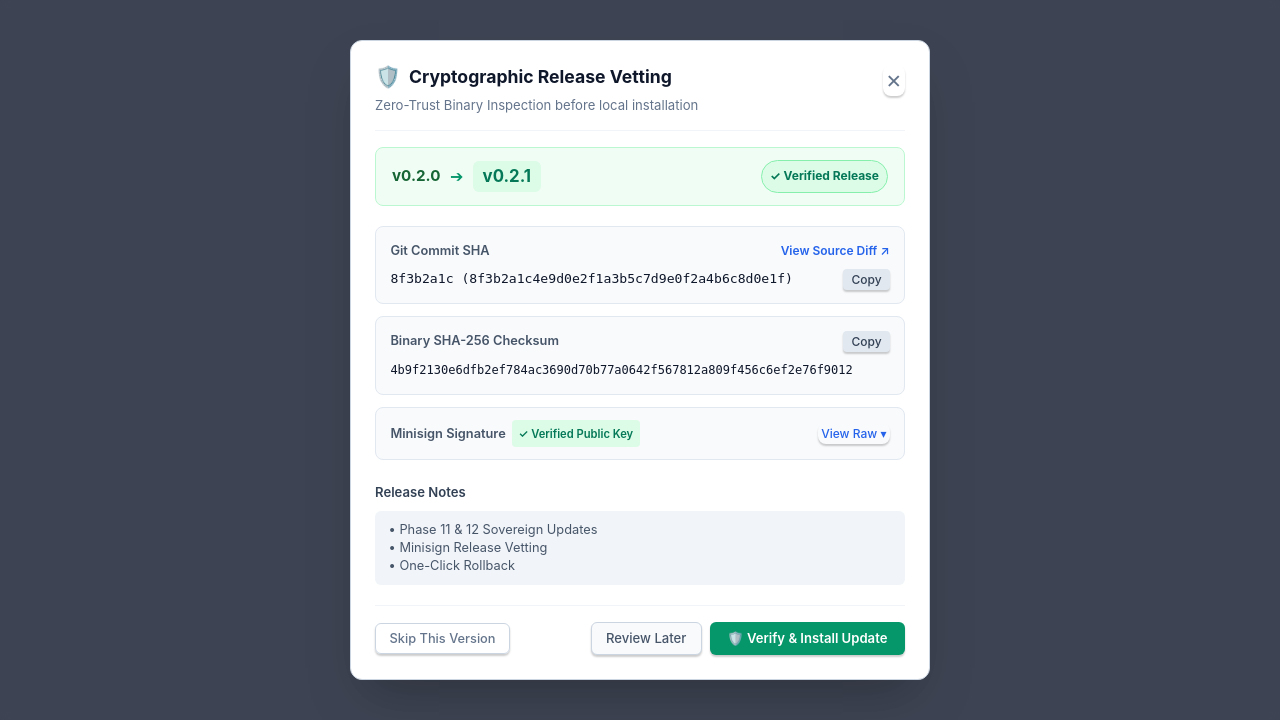
Test: UpdateVettingModal Phase 12 › toggles raw Minisign signature view
Click the button "View Raw ▾".
click(854, 434)  # box x1=818 y1=423 x2=890 y2=444
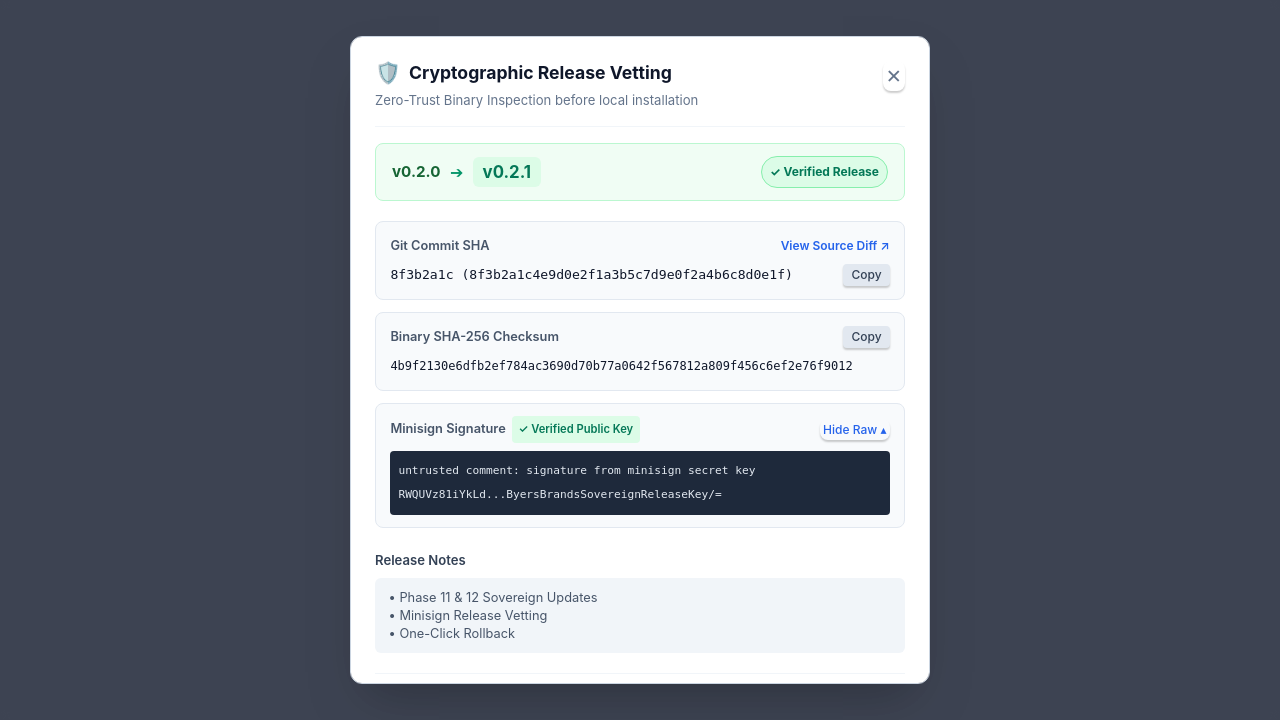
Expected: the text "untrusted comment: signature from minisign secret key" is shown, x1=398 y1=464 x2=755 y2=501
Expected: the button "Hide Raw ▴" is shown, x1=820 y1=419 x2=890 y2=440
